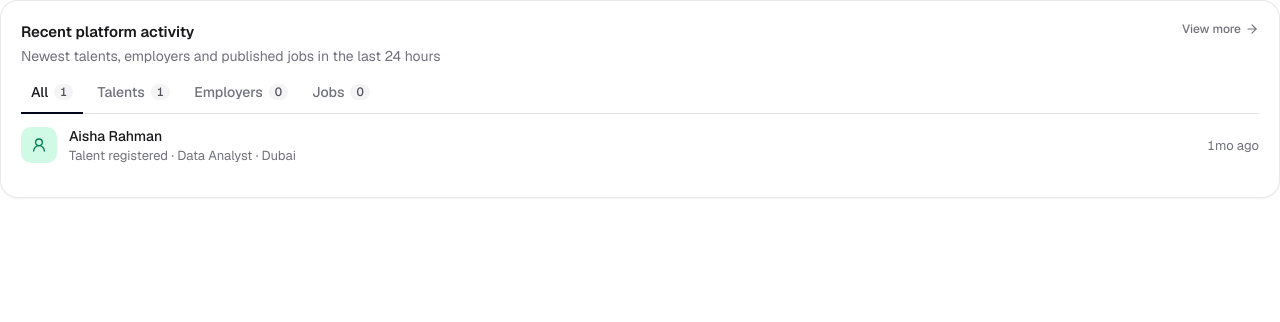
it: RecentActivity › shows an empty state for a tab with nothing in it
Click the tab "Jobs 0" at (341, 96), box x1=302 y1=78 x2=380 y2=114
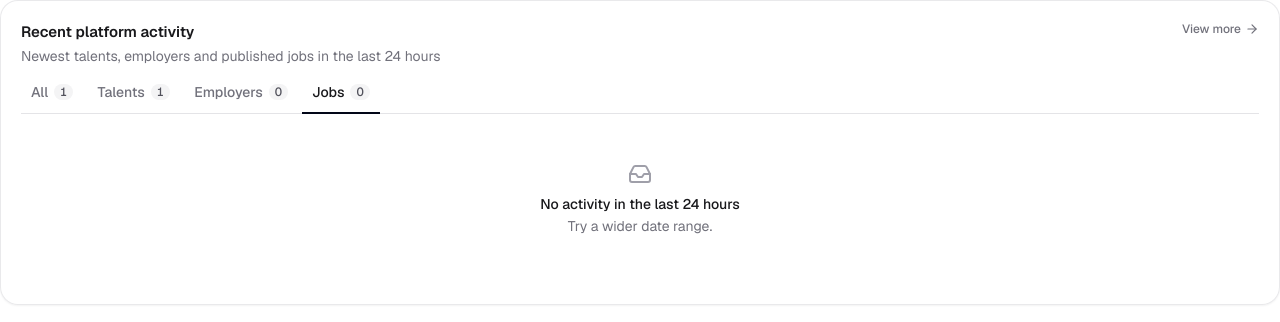
Check: the text "No activity in the last 24 hours" is shown, box x1=540 y1=194 x2=740 y2=214
Check: the list item "Aisha Rahman Talent registered · Data Analyst · Dubai 1mo ago" is gone
